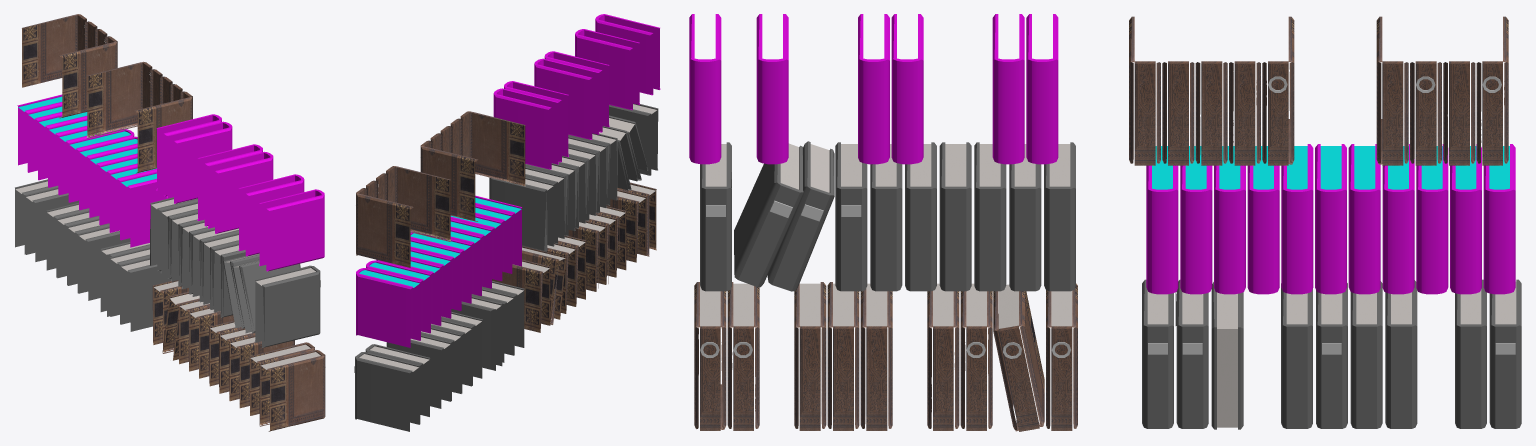
Rendered from Block_Book.fbx.
3 views of the same model, side by side, from view 1: azimuth 30°, elevation 25°; view 2: azimuth 150°, elevation 25°; view 3: azimuth 270°, elevation 25° (orthographic). The views are drawn at different scales.
Visible parts, largest first — view 1: Block_Book; view 2: Block_Book; view 3: Block_Book.
Part boxes in pixels (bbox=[...]): Block_Book: bbox=[15, 14, 325, 431]; Block_Book: bbox=[354, 14, 660, 431]; Block_Book: bbox=[689, 14, 1521, 431].
Bounding box in the file's own units: 35.95 × 125 × 254.
